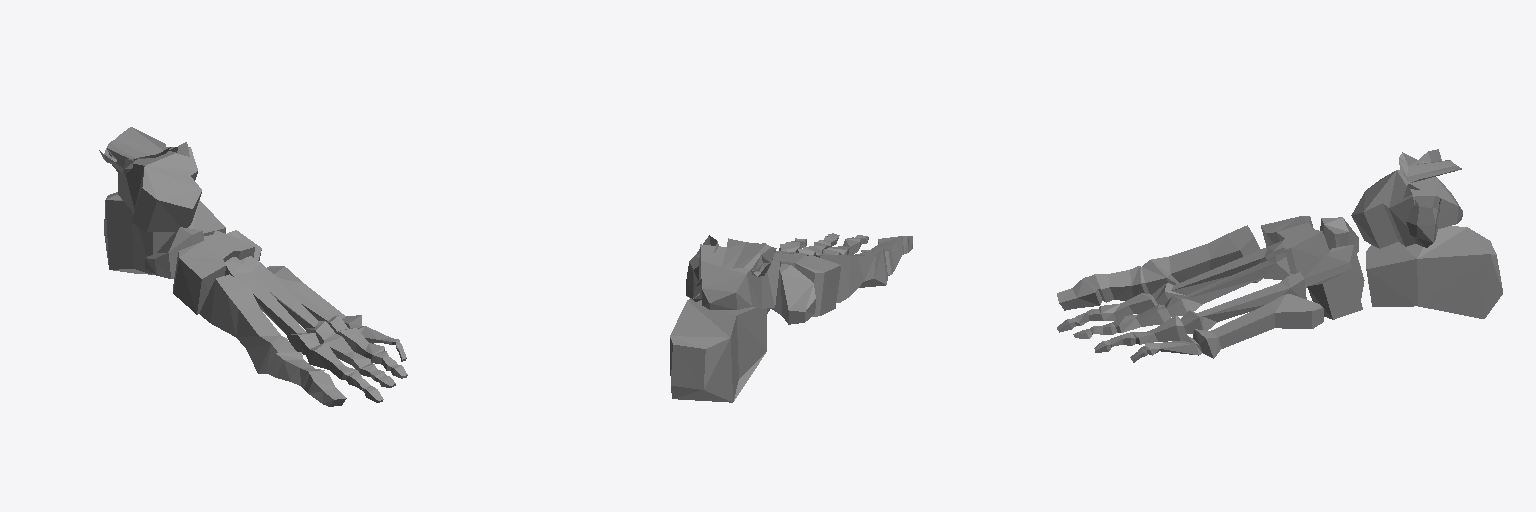
The model's file is left_foot.obj.
3 renders of one model, left to right at view 1: azimuth 30°, elevation 25°; view 2: azimuth 150°, elevation 25°; view 3: azimuth 270°, elevation 25°, orthographic.
Parts seen in each view (by area): view 1: sub01; view 2: sub01; view 3: sub01.
Part boxes in pixels (x1,y1,x2,y2): sub01: (99,127,407,406); sub01: (670,233,912,402); sub01: (1057,149,1502,362).
Bounding box in the file's own units: 4.37 × 3.74 × 10.76.